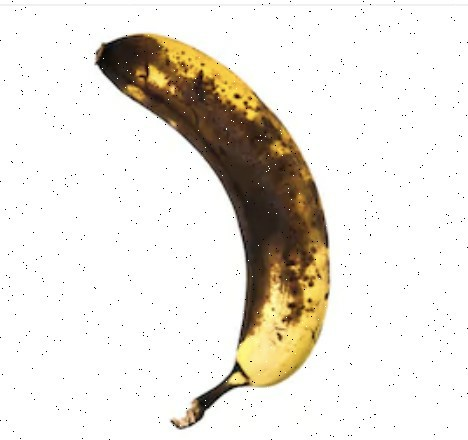rotten_banana: (94, 32, 334, 417)
